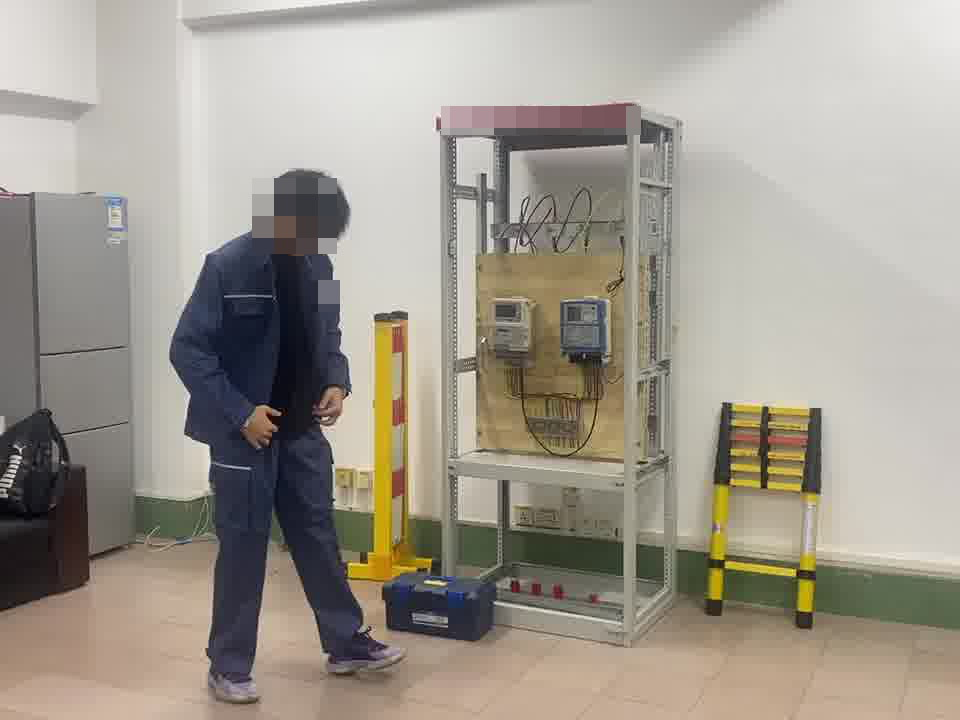downsuit: (203, 437, 369, 672)
hand: (241, 406, 281, 451), (309, 383, 349, 427)
noear: (269, 210, 309, 247)
person: (167, 166, 408, 706)
unhalt: (265, 169, 352, 255)
upsuit: (170, 228, 355, 448)
wrongsuit: (259, 257, 327, 438)
